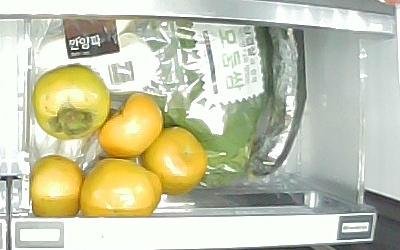persimmon: (33, 64, 109, 140), (80, 158, 161, 217), (141, 125, 207, 195), (97, 93, 163, 156), (30, 154, 80, 217)
